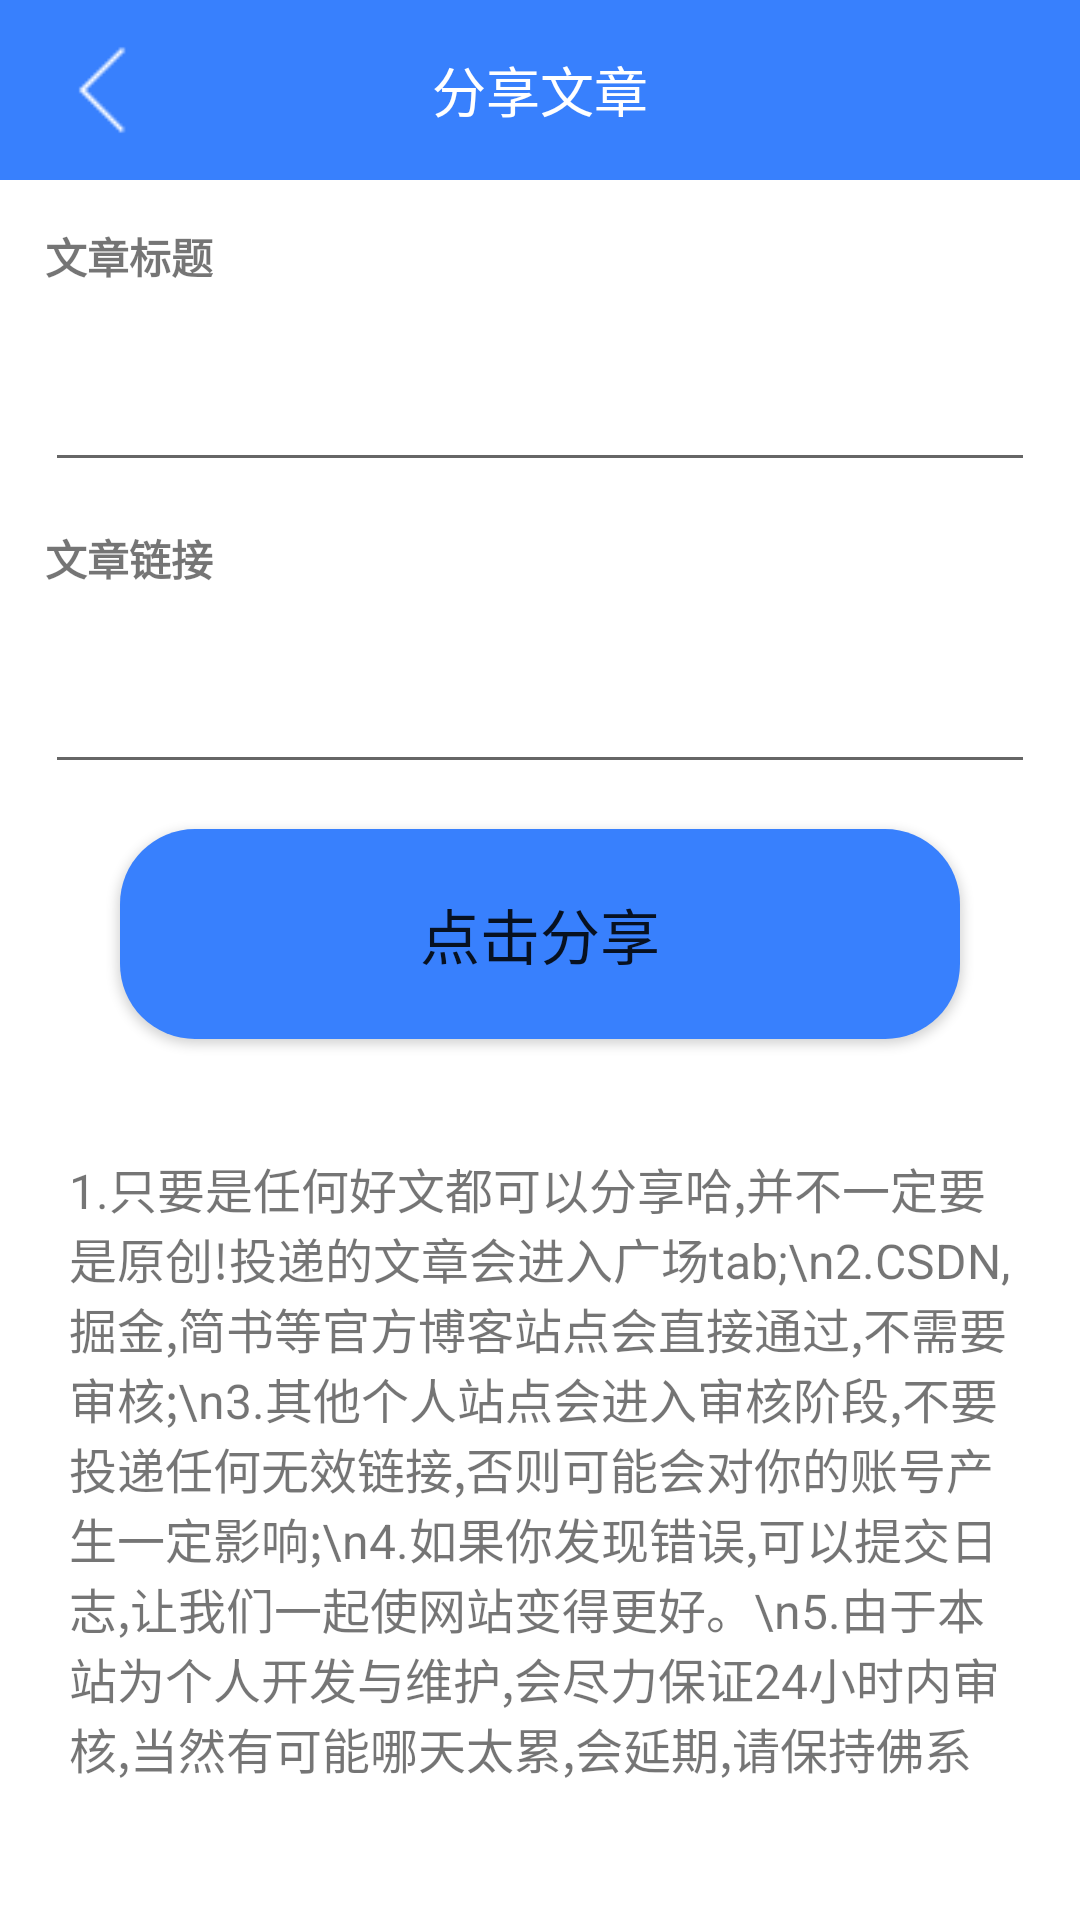

Named icons in this screenshot (1080px×1920px) and their bounding boxes, (x1, y1, x2, y2):
back: (79, 47, 125, 133)
